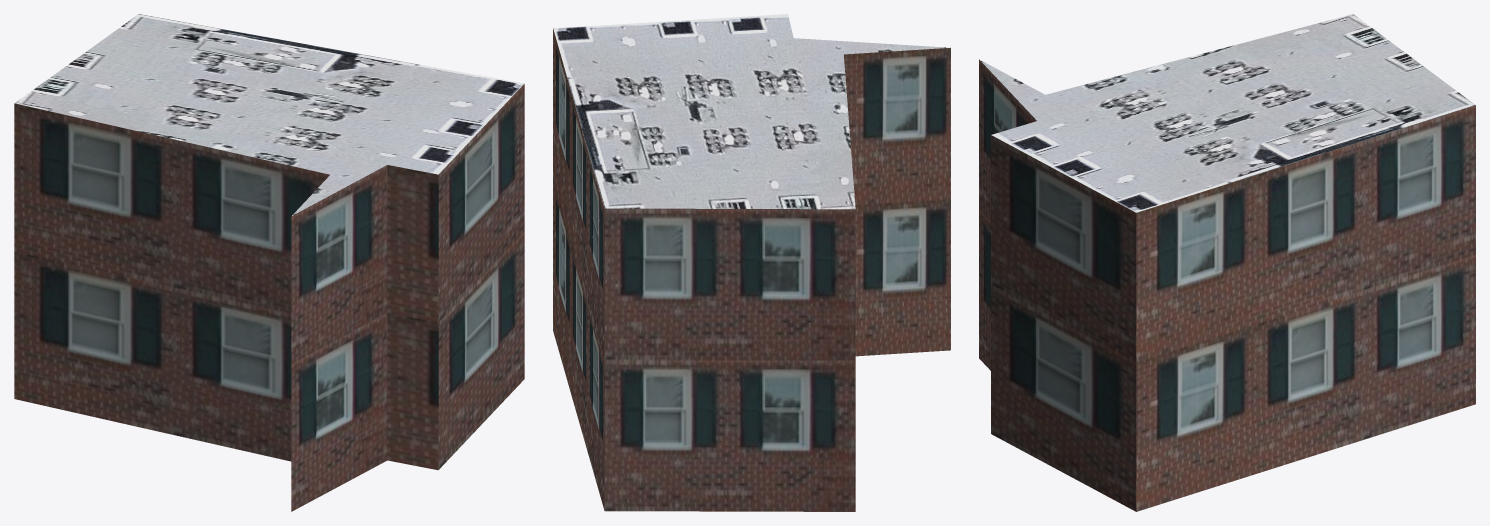
Rendered from ResTex__2823.fbx.
3 views of the same model, side by side, from view 1: azimuth 30°, elevation 25°; view 2: azimuth 150°, elevation 25°; view 3: azimuth 270°, elevation 25° (orthographic). The views are drawn at different scales.
Visible parts, largest first — view 1: CityEngineMaterial_14_m, CityEngineMaterial_8_m; view 2: CityEngineMaterial_14_m, CityEngineMaterial_8_m; view 3: CityEngineMaterial_14_m, CityEngineMaterial_8_m.
Boxes of the visible parts, left/top/right/bottom form: CityEngineMaterial_14_m: left=14, top=84, right=524, bottom=511; CityEngineMaterial_8_m: left=15, top=14, right=523, bottom=215; CityEngineMaterial_14_m: left=553, top=28, right=950, bottom=511; CityEngineMaterial_8_m: left=553, top=14, right=949, bottom=209; CityEngineMaterial_14_m: left=979, top=59, right=1475, bottom=511; CityEngineMaterial_8_m: left=980, top=14, right=1475, bottom=212.
Size of the model in its own units: 8.55 by 6 by 9.03.
2 materials, 2 textured.
